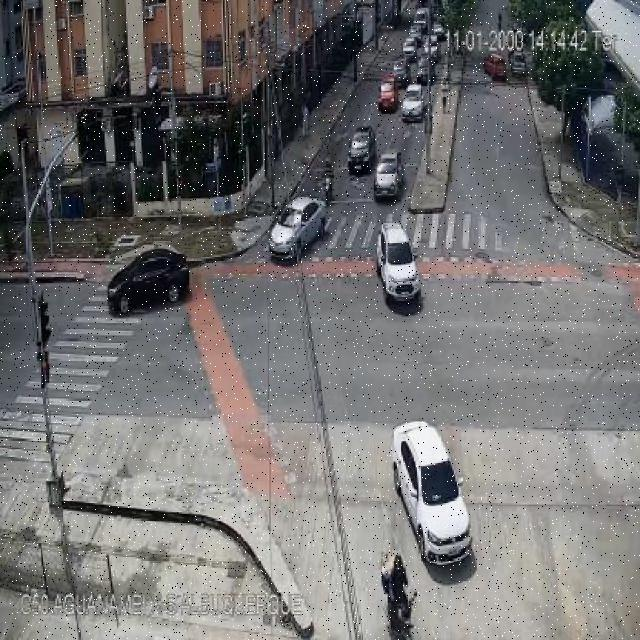Car: (392, 418, 474, 572), (96, 246, 198, 314), (370, 222, 426, 302), (265, 196, 329, 262), (346, 123, 377, 177), (372, 152, 402, 203), (400, 84, 425, 124), (377, 73, 396, 114), (482, 53, 507, 79), (416, 54, 435, 80), (391, 58, 409, 84), (424, 35, 440, 60), (401, 37, 420, 57), (411, 8, 429, 28), (407, 24, 422, 45)
Cycle: (376, 545, 416, 640), (320, 158, 336, 204)
